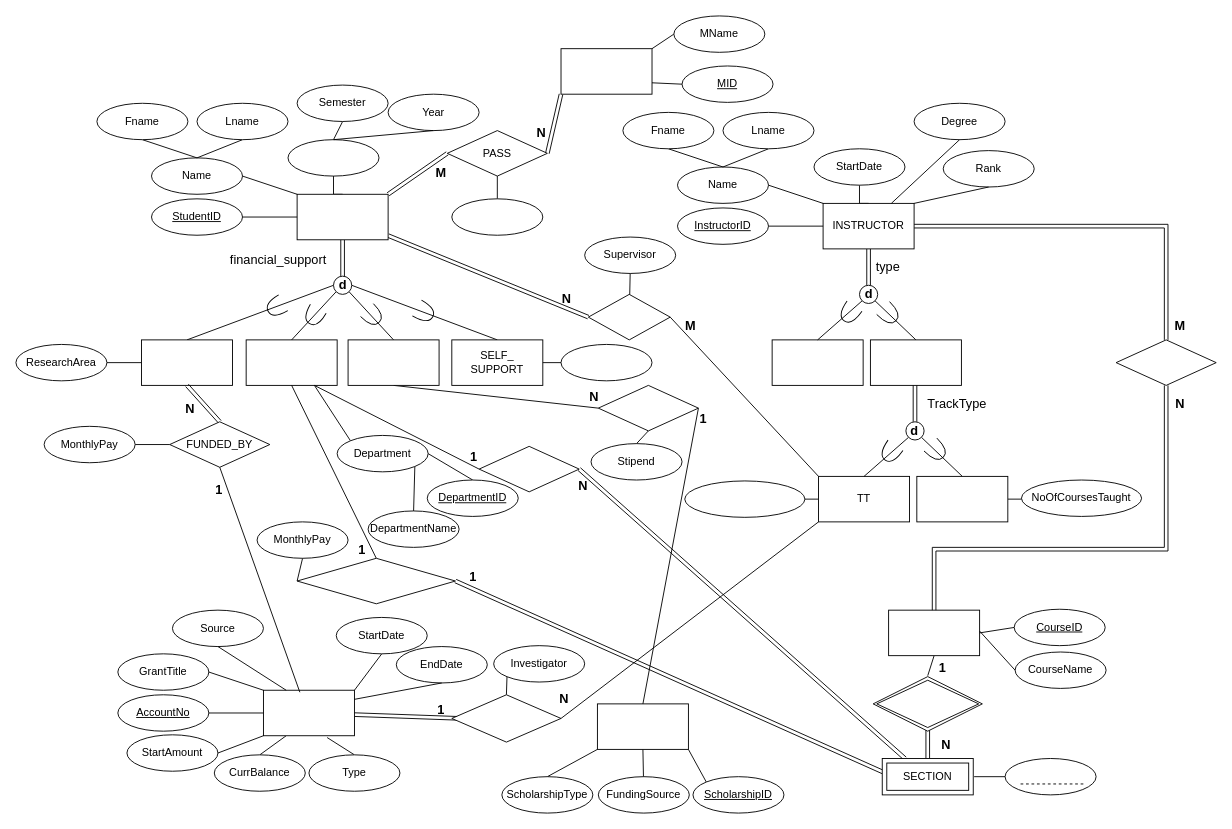
Image size: 1232x829. Some labels were removed from this diagram. Each missing label, with the centre of its shape:
"ADJUNCT" belongs at pixel 817 362.
"ASSIGNED_TO" belongs at pixel 528 468.
"ASSOCIATE WITH" belongs at pixel 506 718.
"Committee" belongs at pixel 628 316.
"COURSE" belongs at pixel 934 632.
"FULL_TIME" belongs at pixel 915 362.
"FUNDING" belongs at pixel 647 407.
"GRA" belongs at pixel 187 362.
"GRANT" belongs at pixel 308 712.
"GTA" belongs at pixel 291 362.
"InstallmentPlan" belongs at pixel 606 362.
"MILESTONE" belongs at pixel 606 71.
"NoOfPhdSupervised" belongs at pixel 744 498.
"NTT" belongs at pixel 962 498.
"OFFERED" belongs at pixel 927 703.
"PassDate" belongs at pixel 497 216.
"PHD_STUDENT" belongs at pixel 342 216.
"SCHOLARSHIP" belongs at pixel 642 726.
"SCHOLARSHIP_ SUPPORT" belongs at pixel 393 362.
"SectionID" belongs at pixel 1050 776.
"SOURCE_OF_FUNDING" belongs at pixel 375 580.
"StartSemester" belongs at pixel 333 157.
"TAUGHT" belongs at pixel 1165 362.
